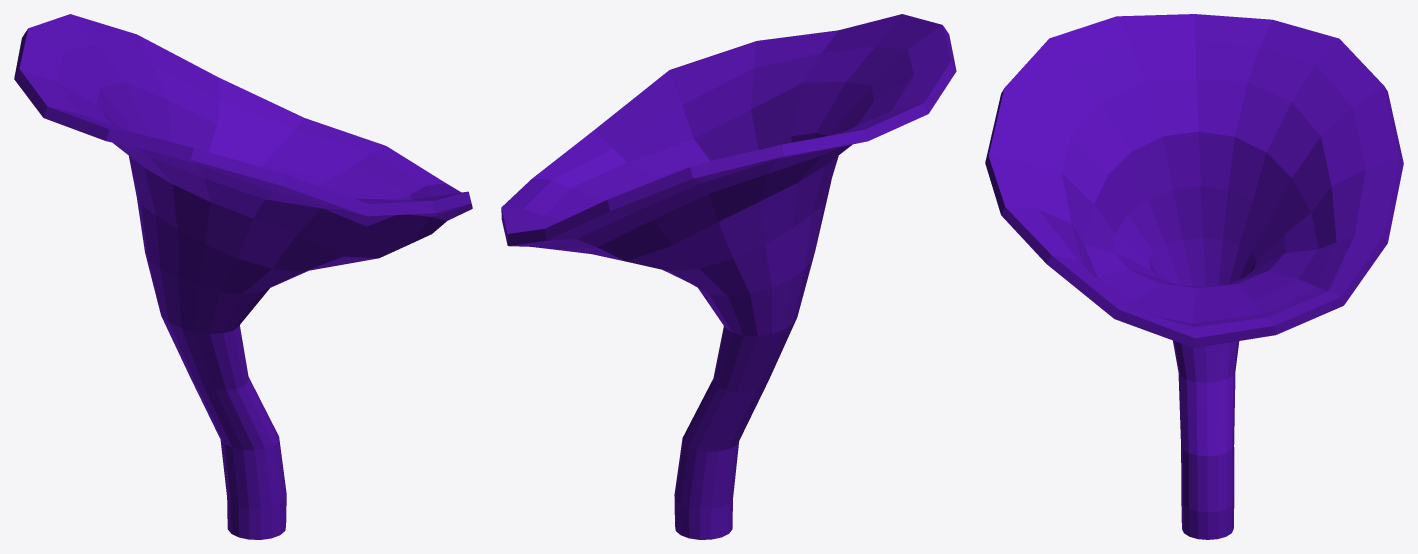
The model's file is alien ear plant.fbx.
3 renders of one model, left to right at view 1: azimuth 30°, elevation 25°; view 2: azimuth 150°, elevation 25°; view 3: azimuth 270°, elevation 25°, orthographic. The views are drawn at different scales.
Visible parts, largest first — view 1: Cylinder; view 2: Cylinder; view 3: Cylinder.
Boxes of the visible parts, x1=… form: Cylinder: x1=14, y1=14, x2=472, y2=539; Cylinder: x1=501, y1=14, x2=956, y2=539; Cylinder: x1=985, y1=14, x2=1403, y2=539.
Size of the model in its own units: 41.65 by 47.91 by 42.58.
